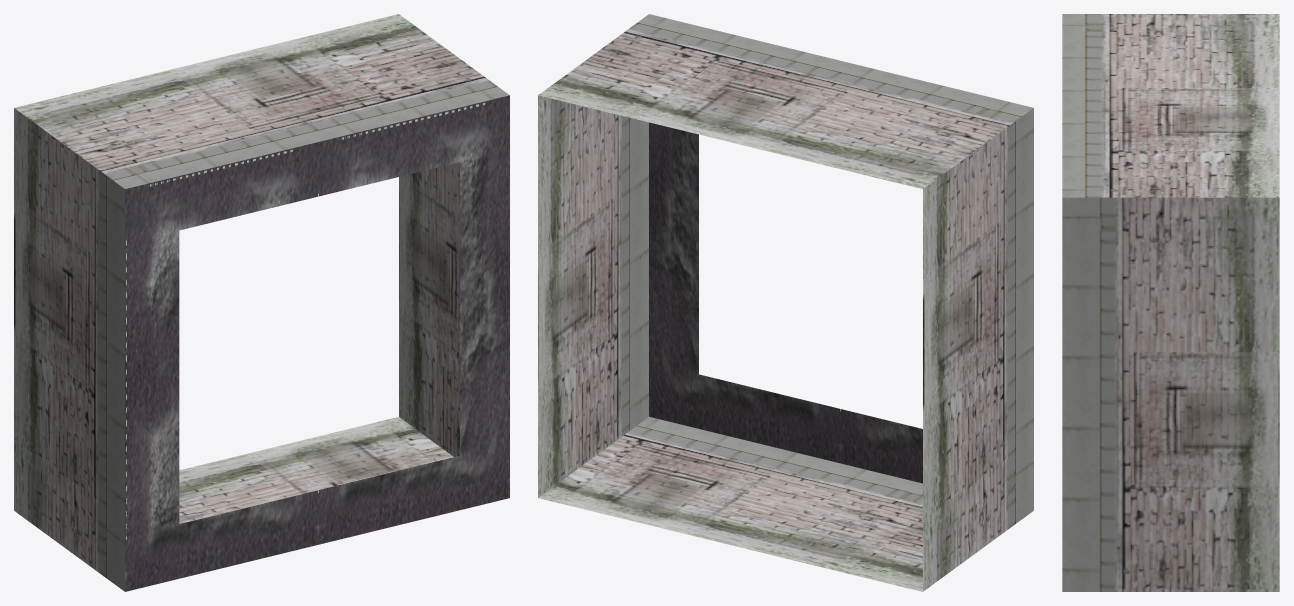
Rendered from building4x2x4c_wtf.obj.
3 views of the same model, side by side, from view 1: azimuth 30°, elevation 25°; view 2: azimuth 150°, elevation 25°; view 3: azimuth 270°, elevation 25° (orthographic). The views are drawn at different scales.
Visible parts, largest first — view 1: group4, group7, group6, group5, group3; view 2: group7, group6, group5, group3, group4; view 3: group5, group6.
Part boxes in pixels (left/top/right/bottom): group4: left=125, top=95, right=509, bottom=591; group7: left=14, top=108, right=124, bottom=591; group6: left=14, top=14, right=509, bottom=188; group5: left=399, top=162, right=459, bottom=456; group3: left=179, top=417, right=453, bottom=523; group7: left=923, top=108, right=1033, bottom=591; group6: left=538, top=14, right=1033, bottom=188; group5: left=538, top=95, right=648, bottom=497; group3: left=538, top=417, right=922, bottom=591; group4: left=649, top=122, right=922, bottom=483; group5: left=1062, top=197, right=1279, bottom=591; group6: left=1062, top=14, right=1279, bottom=197.
Size of the model in its own units: 660 by 660 by 330.
